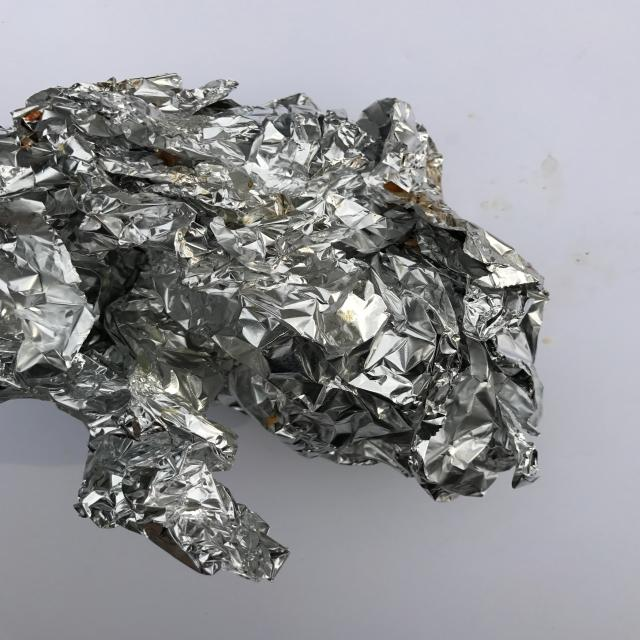metal: (0, 72, 549, 581)
